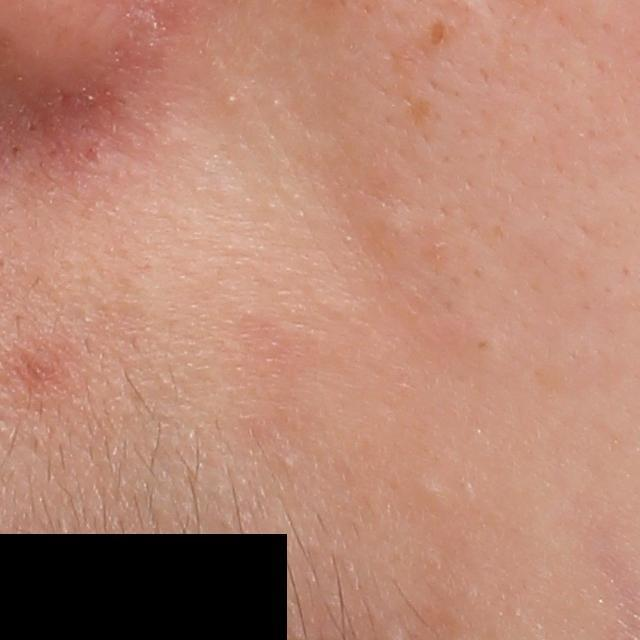comedo: (419, 481, 442, 502), (221, 93, 244, 111), (281, 455, 297, 472)
